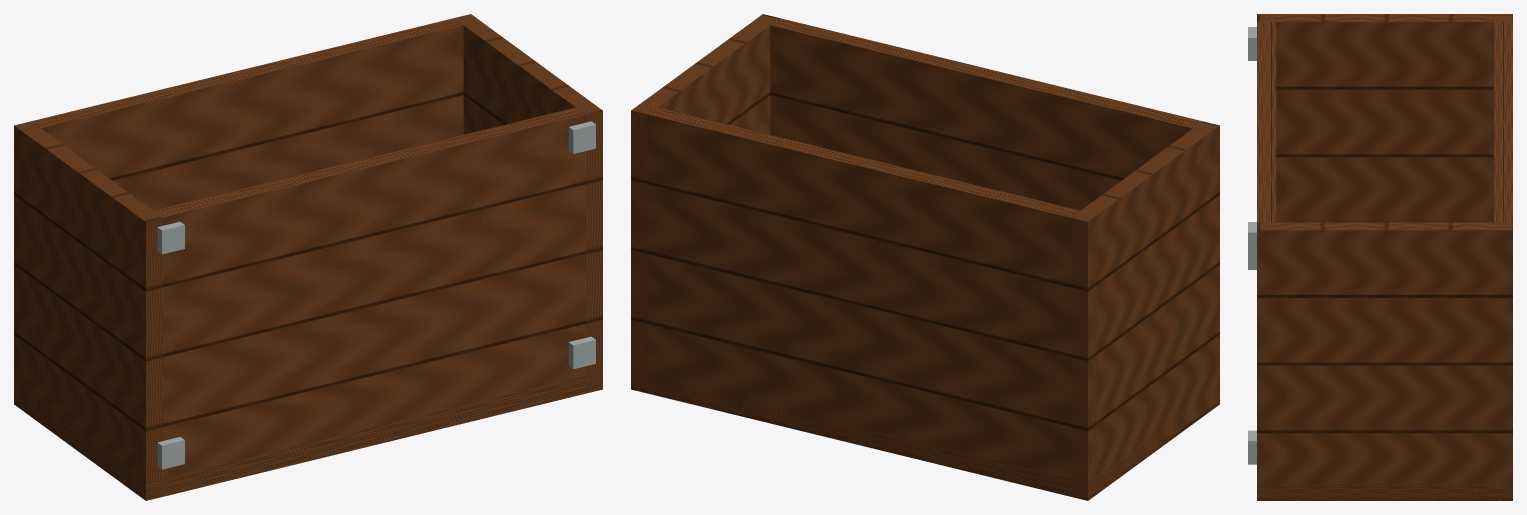
File: rural-scavenging-settlements-root-cellar-bin-07ad7b25__26575.glb
3 renders of one model, left to right at view 1: azimuth 30°, elevation 25°; view 2: azimuth 150°, elevation 25°; view 3: azimuth 270°, elevation 25°, orthographic. The views are drawn at different scales.
Visible parts, largest first — view 1: root-cellar-bin_0, root-cellar-bin_1; view 2: root-cellar-bin_0; view 3: root-cellar-bin_0, root-cellar-bin_1.
Boxes of the visible parts, box(x1,y1,x2,y2) form: root-cellar-bin_0: box(14, 14, 602, 500); root-cellar-bin_1: box(157, 121, 595, 469); root-cellar-bin_0: box(631, 14, 1219, 500); root-cellar-bin_0: box(1257, 14, 1512, 500); root-cellar-bin_1: box(1248, 27, 1256, 464).
Size of the model in its own units: 1.2 by 0.7 by 0.621.
2 materials, 1 textured.
